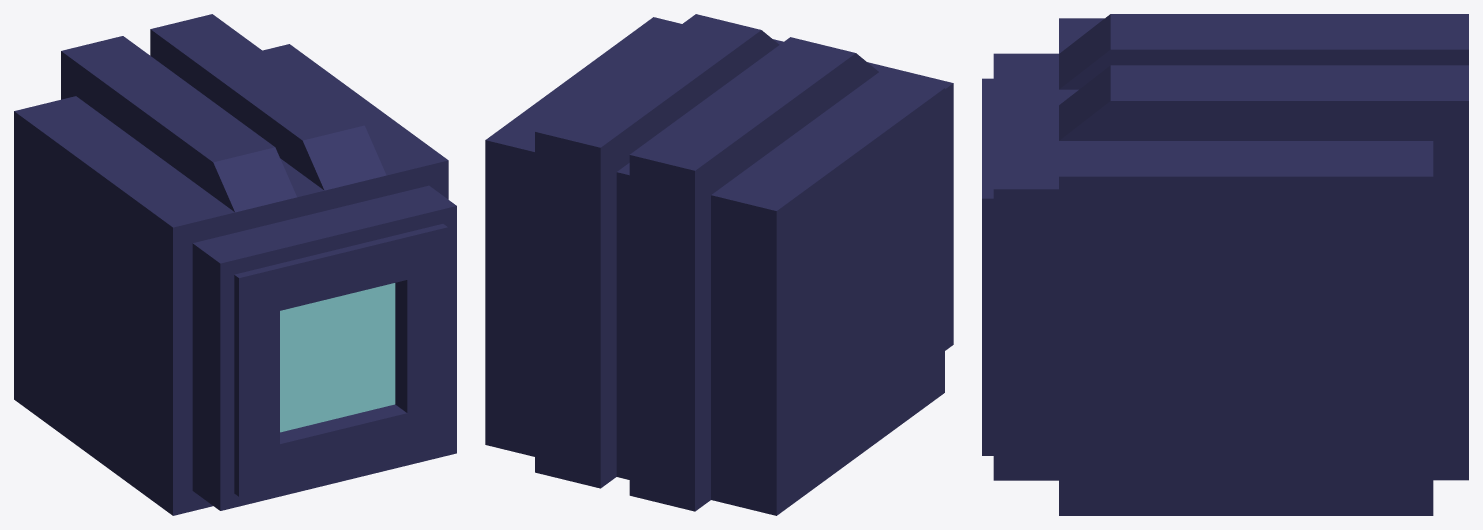
The picture shows the model from 3 angles, left to right: view 1: azimuth 30°, elevation 25°; view 2: azimuth 150°, elevation 25°; view 3: azimuth 270°, elevation 25°; orthographic projection. The views are drawn at different scales.
Visible parts, largest first — view 1: pCube25; view 2: pCube25; view 3: pCube25.
Part boxes in pixels (left/top/right/bottom): pCube25: left=14, top=14, right=456, bottom=515; pCube25: left=485, top=14, right=953, bottom=515; pCube25: left=982, top=14, right=1468, bottom=515.
Size of the model in its own units: 1 by 1.12 by 1.3.
